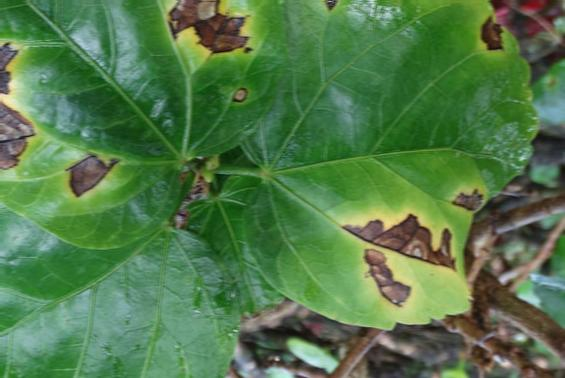Tomato Septoria leaf spot: (244, 0, 549, 332), (0, 0, 286, 232)
